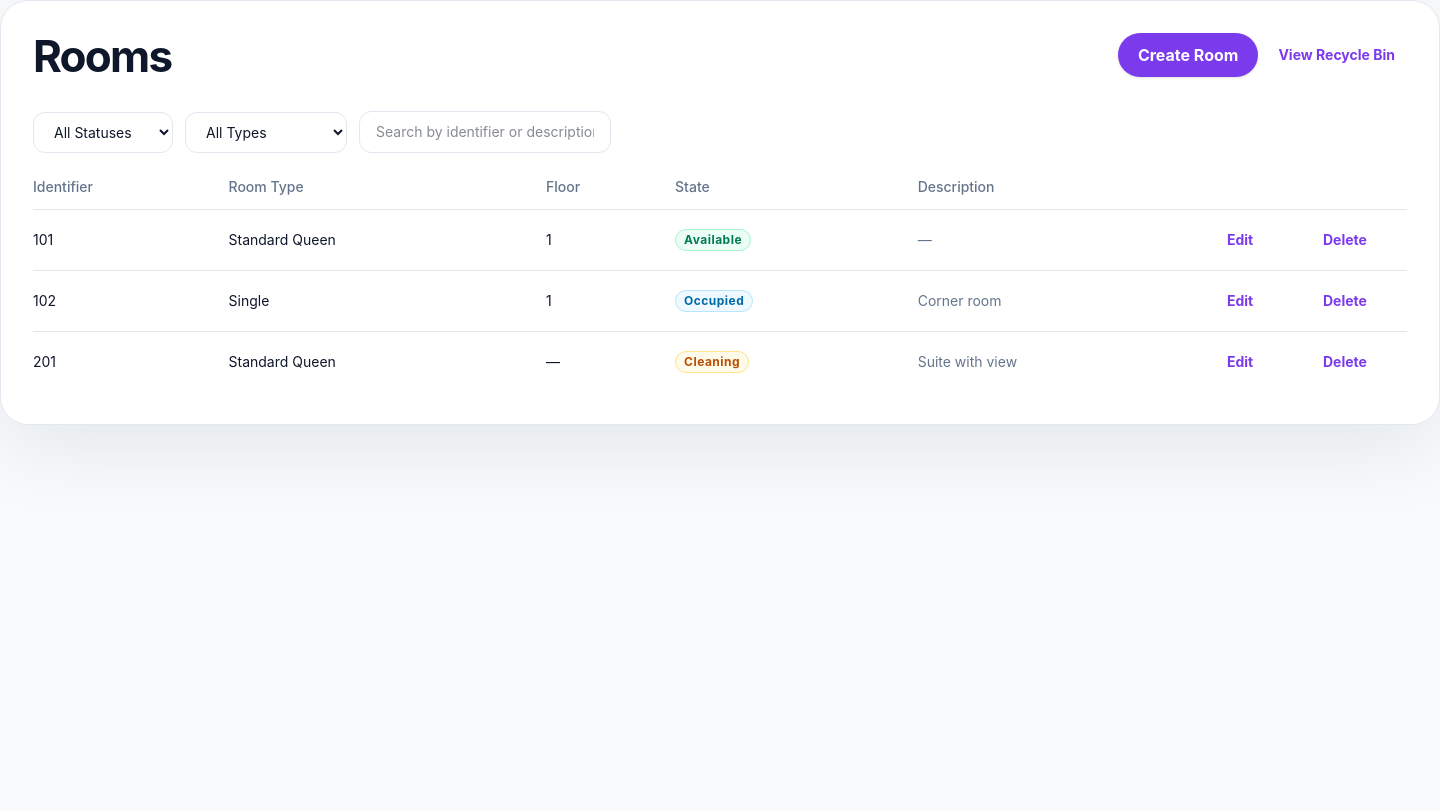
RoomsPage › modal create flow › shows validation errors when submitting an empty create form
Click the button "Create Room". click: (1188, 55)
box: [1118, 33, 1258, 77]
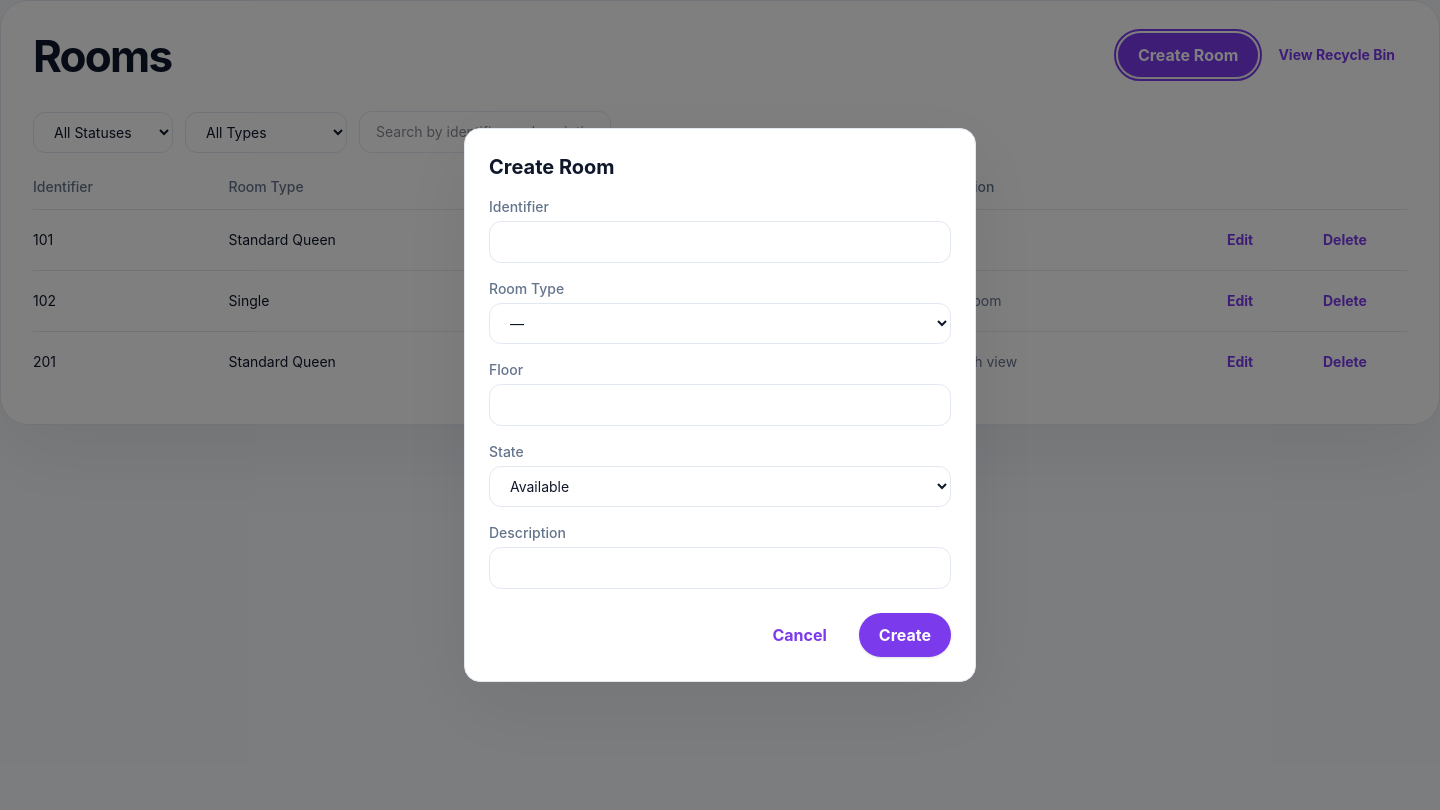
Click the button "Create". click: (905, 635)
box: [859, 613, 951, 657]
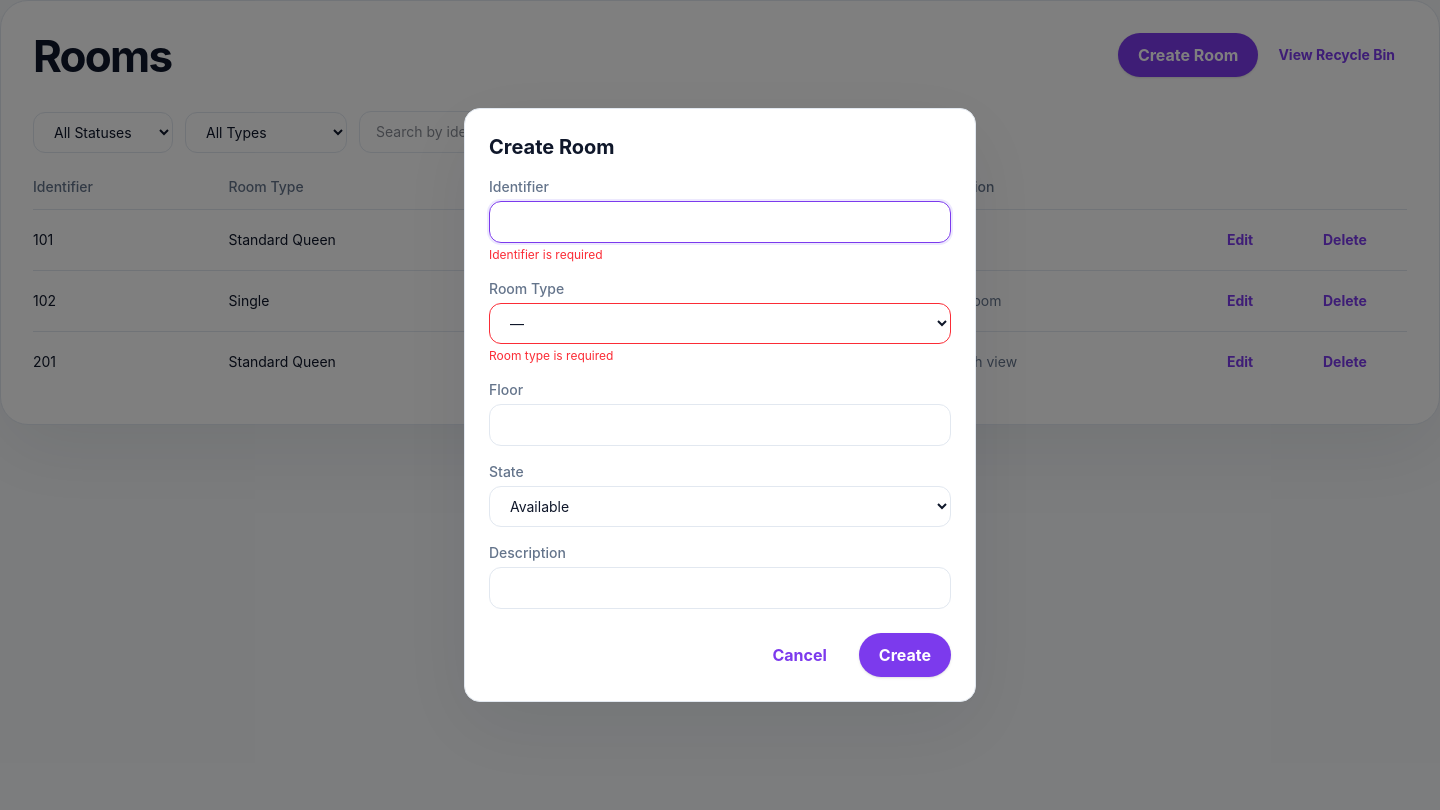
Result: the text "Identifier is required" is shown at [489, 247, 603, 262]
